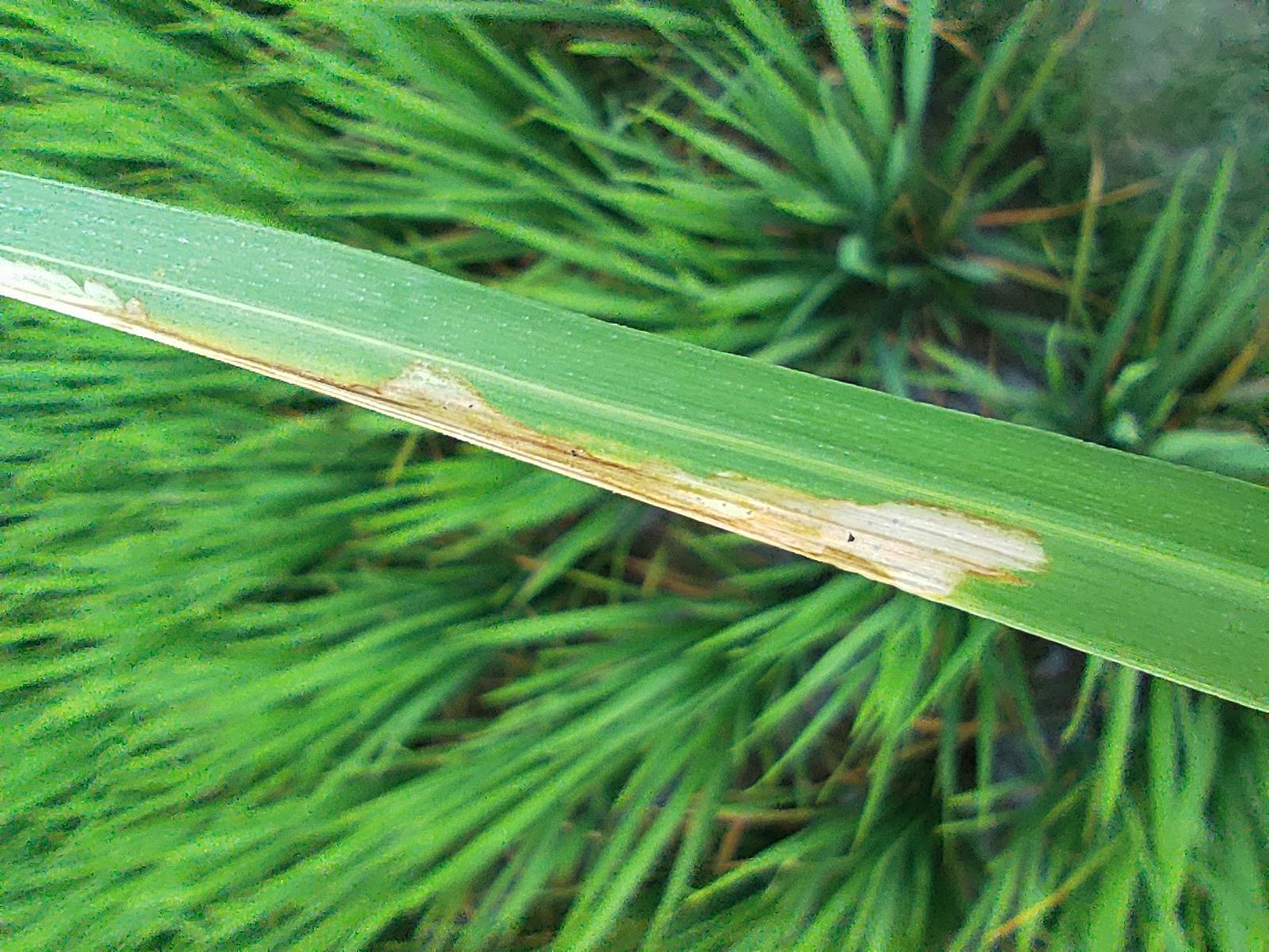BLB: (465, 2, 926, 789)
LEAF: (321, 0, 1038, 951)
